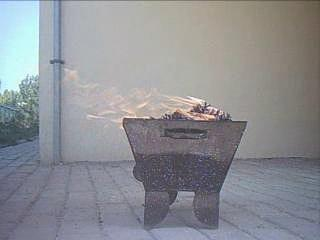fire: (66, 79, 217, 122)
